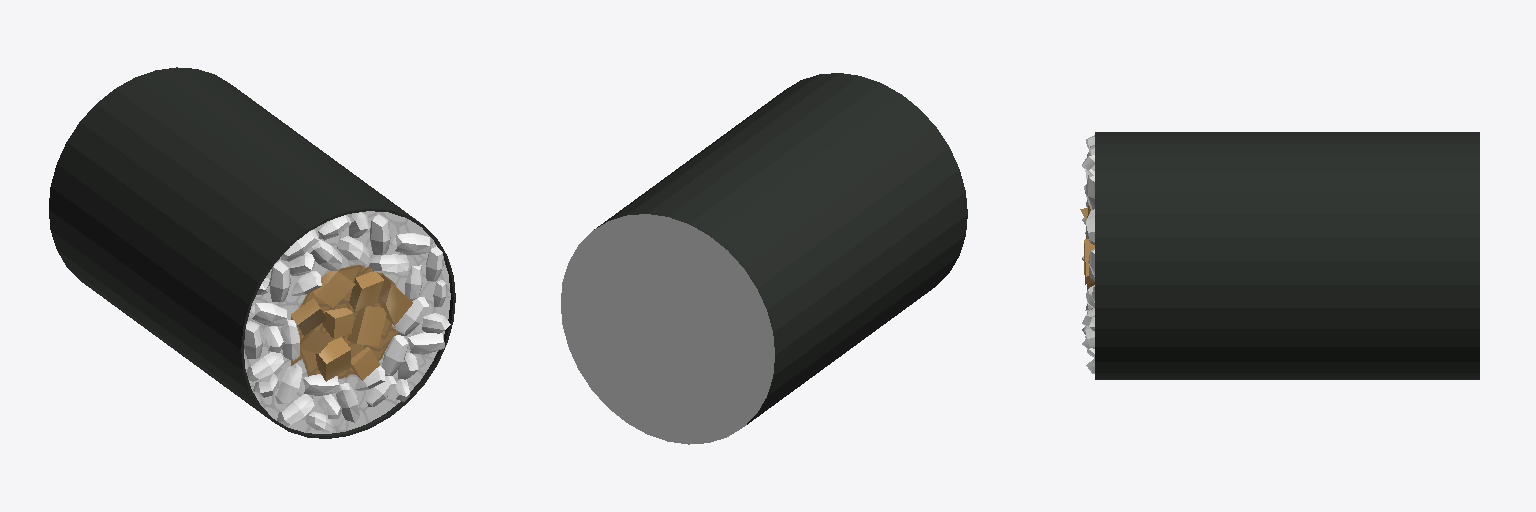
The picture shows the model from 3 angles: view 1: azimuth 30°, elevation 25°; view 2: azimuth 150°, elevation 25°; view 3: azimuth 270°, elevation 25°; orthographic projection.
Visible parts, largest first — view 1: 円柱.043; view 2: 円柱.043; view 3: 円柱.043.
Part boxes in pixels (x1,y1,x2,y2): 円柱.043: (49, 67, 455, 438); 円柱.043: (561, 73, 967, 444); 円柱.043: (1080, 132, 1479, 379).
Size of the model in its own units: 4.48 by 4.48 by 7.24.
3 materials, 3 textured.